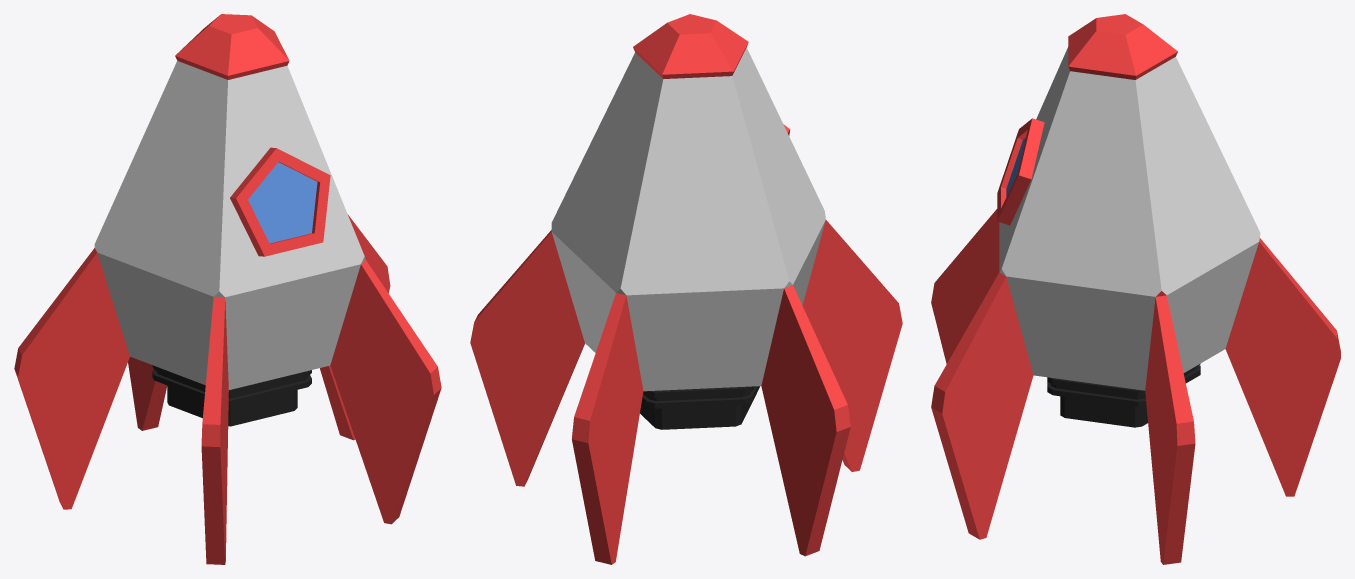
Rendered from Rocket.fbx.
The picture shows the model from 3 angles, left to right: view 1: azimuth 30°, elevation 25°; view 2: azimuth 150°, elevation 25°; view 3: azimuth 270°, elevation 25°; orthographic projection.
Visible parts, largest first — view 1: Rocket_Fuselage, Rocket_Fins, Rocket_Window, Rocket_Nose, Rocket_Thruster; view 2: Rocket_Fuselage, Rocket_Fins, Rocket_Nose, Rocket_Thruster; view 3: Rocket_Fuselage, Rocket_Fins, Rocket_Nose, Rocket_Thruster, Rocket_Window.
Boxes of the visible parts, x1,y1,x2,y2 form: Rocket_Fuselage: [94, 61, 365, 389]; Rocket_Fins: [14, 215, 441, 564]; Rocket_Window: [230, 147, 330, 256]; Rocket_Nose: [175, 14, 289, 79]; Rocket_Thruster: [152, 365, 311, 426]; Rocket_Fuselage: [551, 47, 825, 391]; Rocket_Fins: [470, 220, 902, 564]; Rocket_Nose: [633, 14, 748, 78]; Rocket_Thruster: [640, 386, 760, 429]; Rocket_Fuselage: [999, 47, 1260, 390]; Rocket_Fins: [931, 209, 1340, 564]; Rocket_Nose: [1068, 14, 1177, 79]; Rocket_Thruster: [1047, 363, 1200, 427]; Rocket_Window: [997, 118, 1044, 225].
Bounding box in the file's own units: 364 × 436 × 346.
